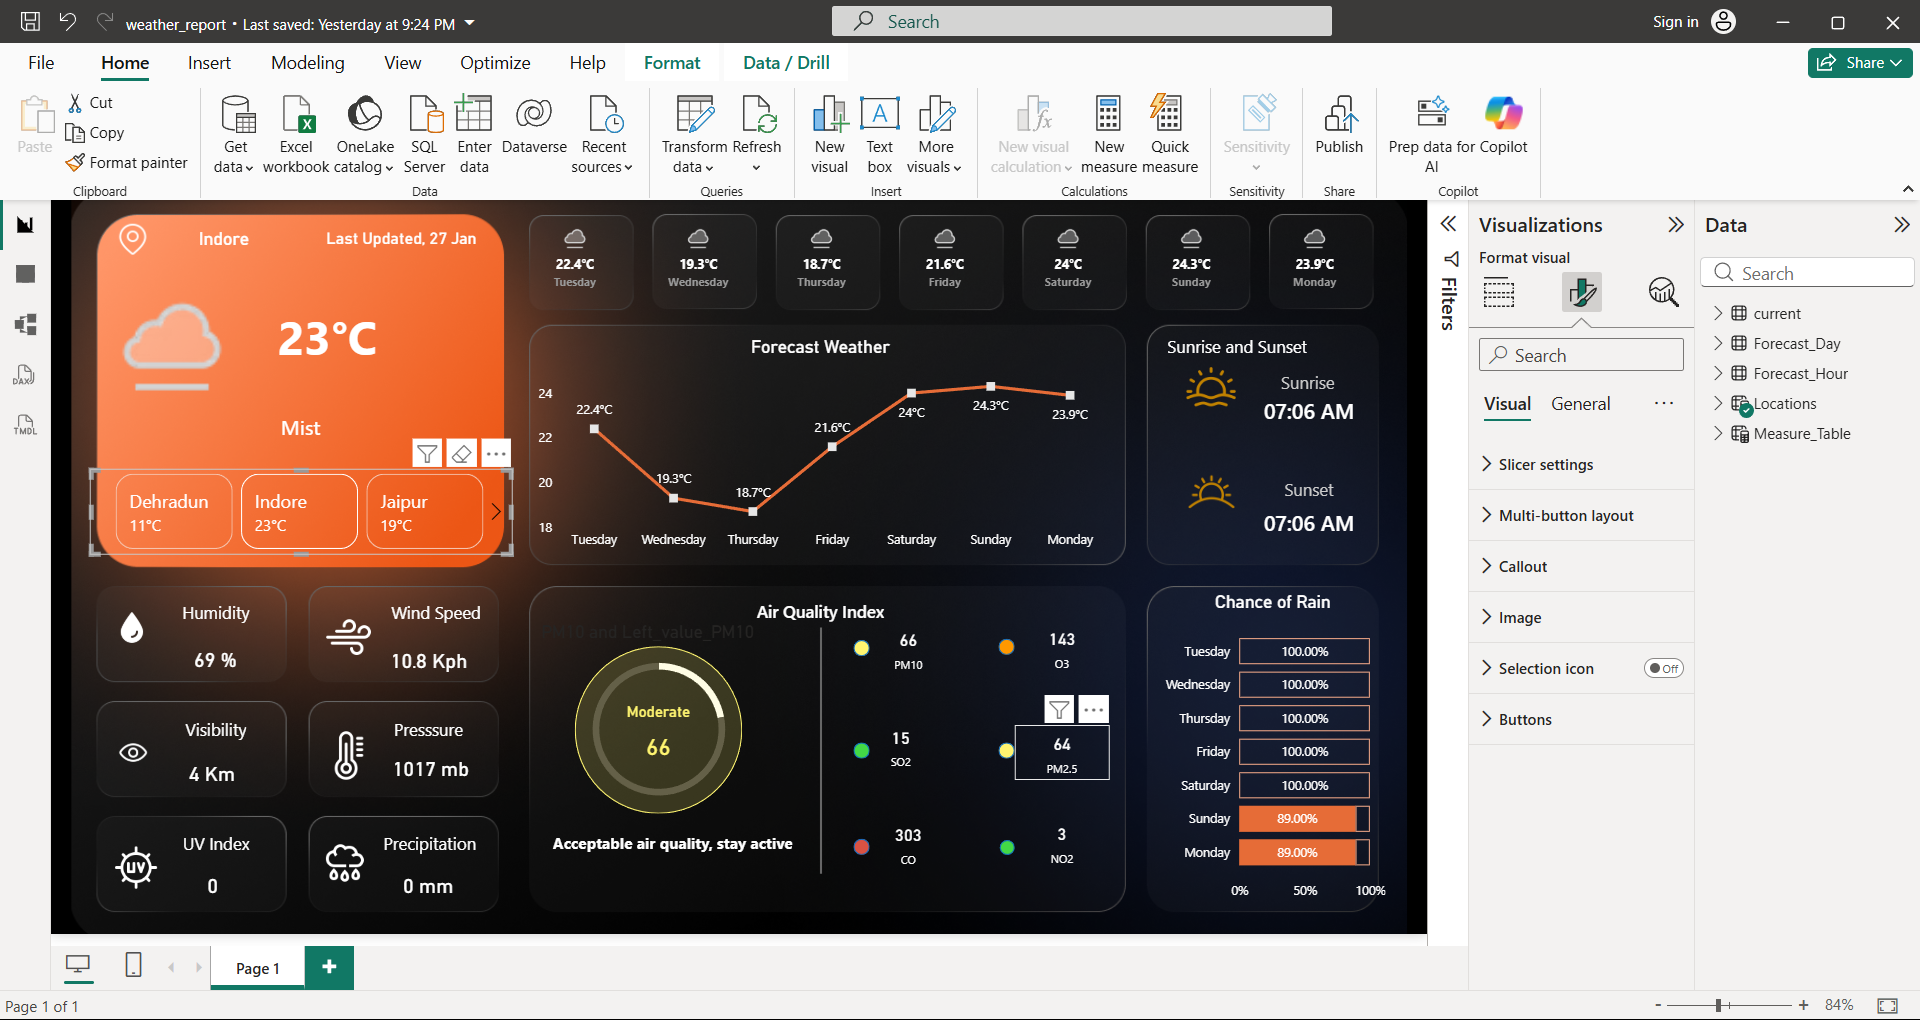

Layout of this report page (visuals, bound fields, positions):
{"tool":"powerbi","page":{"name":"Page 1","canvas":[1317,703],"ordinal":0},"visuals":[{"type":"donutChart","fields":{"Y":["Sum(current.current.air_quality.pm10)","Measure_Table.Left_value_PM10"]},"box":[464.2,403.2,235.7,187.8],"z":0},{"type":"shape","box":[501.3,427.1,160.3,160.3],"z":1000},{"type":"advancedSlicerVisual","fields":{"Values":["Locations.location.name"]},"box":[37.1,257.2,404.4,82.6],"z":2000},{"type":"shape","box":[210.6,86.1,122,88.5],"z":3000},{"type":"card","fields":{"Values":["Min(Locations.location.name)"]},"box":[84,16.7,163.9,41.9],"z":4000},{"type":"card","fields":{"Values":["Min(current.current.condition.text)"]},"box":[59.8,193.8,358.9,49.1],"z":5000},{"type":"image","box":[59.8,22.7,37.1,29.9],"z":6000},{"type":"card","fields":{"Values":["Measure_Table.last_updated_date_curr"]},"box":[252.4,16.7,166.3,41.9],"z":7000},{"type":"image","box":[46.7,64.6,138.8,131.6],"z":8000},{"type":"image","box":[45.5,513.3,65.8,31.1],"z":9000},{"type":"actionButton","box":[107.7,486.9,100.5,39.5],"z":10000},{"type":"image","box":[56.2,393.6,43.1,31.1],"z":11000},{"type":"actionButton","box":[107.7,374.5,100.5,39.5],"z":12000},{"type":"actionButton","box":[107.7,595.8,100.5,39.5],"z":13000},{"type":"image","box":[59.8,617.3,43.1,43.1],"z":14000},{"type":"actionButton","box":[311.1,486.9,100.5,39.5],"z":15000},{"type":"actionButton","box":[318.2,374.5,100.5,39.5],"z":16000},{"type":"actionButton","box":[312.3,595.8,100.5,39.5],"z":17000},{"type":"image","box":[262,394.8,45.5,46.7],"z":18000},{"type":"image","box":[259.6,508.5,51.4,46.7],"z":19000},{"type":"image","box":[254.8,612.6,52.6,44.3],"z":20000},{"type":"card","fields":{"Values":["Measure_Table.Humidity"]},"box":[129.2,425.9,56.2,28.7],"z":21000},{"type":"card","fields":{"Values":["Measure_Table.Pressure"]},"box":[314.7,519.2,98.1,51.4],"z":22000},{"type":"card","fields":{"Values":["Measure_Table.Wind_Speed"]},"box":[318.2,424.7,87.3,33.5],"z":23000},{"type":"card","fields":{"Values":["Measure_Table.precipitation"]},"box":[317,634.1,88.5,45.5],"z":24000},{"type":"card","fields":{"Values":["Measure_Table.Visibility_in_Km"]},"box":[107.7,534.8,93.3,29.9],"z":25000},{"type":"card","fields":{"Values":["Sum(current.current.uv)"]},"box":[124.4,638.9,61,35.9],"z":26000},{"type":"advancedSlicerVisual","fields":{"Values":["Forecast_Day.Day_Name"]},"box":[441.5,3.6,832.7,110.1],"z":27000},{"type":"lineChart","title":"Forecast Weather","fields":{"Y":["Sum(Forecast_Day.forecast.forecastday.day.avgtemp_c)"],"Category":["Forecast_Day.Day_Name"]},"box":[461.8,130.4,549.2,213],"z":28000},{"type":"actionButton","box":[1056.4,119.6,157.9,39.5],"z":29000},{"type":"shape","box":[1135.4,181.9,137.6,39.5],"z":30000},{"type":"shape","box":[1164.1,257.2,80.2,39.5],"z":31000},{"type":"shape","box":[1162.9,155.5,80.2,38.3],"z":32000},{"type":"shape","box":[1135.4,288.3,137.6,39.5],"z":33000},{"type":"image","box":[1085.1,155.5,50.2,46.7],"z":34000},{"type":"image","box":[1074.4,250,73,58.6],"z":35000},{"type":"hundredPercentStackedBarChart","title":"Chance of Rain","fields":{"Y":["Sum(Forecast_Day.forecast.forecastday.day.daily_chance_of_rain)","Measure_Table.Left_value_rain"],"Category":["Forecast_Day.Day_Name"]},"box":[1056.4,374.5,226.1,305.1],"z":36000},{"type":"actionButton","box":[668.8,373.3,135.2,39.5],"z":37000},{"type":"card","fields":{"Values":["Sum(current.current.air_quality.co)"]},"box":[775.3,589.8,90.9,52.6],"z":38000},{"type":"card","fields":{"Values":["Sum(current.current.air_quality.o3)"]},"box":[922.4,402,90.9,52.6],"z":39000},{"type":"card","fields":{"Values":["Sum(current.current.air_quality.pm2_5)"]},"box":[922.4,502.5,90.9,52.6],"z":40000},{"type":"card","fields":{"Values":["Sum(current.current.air_quality.no2)"]},"box":[922.4,588.6,90.9,52.6],"z":41000},{"type":"card","fields":{"Values":["Sum(current.current.air_quality.pm10)"]},"box":[775.3,403.2,90.9,52.6],"z":42000},{"type":"card","fields":{"Values":["Sum(current.current.air_quality.so2)"]},"box":[768.1,496.5,90.9,52.6],"z":43000},{"type":"shape","box":[768.1,421.1,15.6,15.6],"z":44000},{"type":"shape","box":[768.1,611.4,15.6,15.6],"z":45000},{"type":"shape","box":[906.9,419.9,15.6,15.6],"z":46000},{"type":"shape","box":[906.9,519.2,15.6,15.6],"z":47000},{"type":"shape","box":[908.1,612.6,14.4,14.4],"z":48000},{"type":"shape","box":[768.1,519.2,15.6,15.6],"z":49000},{"type":"shape","box":[696.3,409.2,81.4,235.7],"z":50000},{"type":"card","fields":{"Values":["Sum(current.current.air_quality.pm10)"]},"box":[543.2,481,76.6,68.2],"z":51000},{"type":"actionButton","box":[464.2,600.6,262,29.9],"z":52000}]}

Visuals, with their boxes on the page's 1317x703 design canvas (x1, y1, x2, y2). These are canvas units, not pixel positions in the 1920x1020 screenshot, which may show the page scaled, cropped or inside an application window:
donutChart - Sum(current.current.air_quality.pm10) x Measure_Table.Left_value_PM10: detection(464, 403, 700, 591)
shape: detection(501, 427, 662, 587)
advancedSlicerVisual - Locations.location.name: detection(37, 257, 442, 340)
shape: detection(211, 86, 333, 175)
card - Min(Locations.location.name): detection(84, 17, 248, 59)
card - Min(current.current.condition.text): detection(60, 194, 419, 243)
image: detection(60, 23, 97, 53)
card - Measure_Table.last_updated_date_curr: detection(252, 17, 419, 59)
image: detection(47, 65, 186, 196)
image: detection(46, 513, 111, 544)
actionButton: detection(108, 487, 208, 526)
image: detection(56, 394, 99, 425)
actionButton: detection(108, 374, 208, 414)
actionButton: detection(108, 596, 208, 635)
image: detection(60, 617, 103, 660)
actionButton: detection(311, 487, 412, 526)
actionButton: detection(318, 374, 419, 414)
actionButton: detection(312, 596, 413, 635)
image: detection(262, 395, 308, 442)
image: detection(260, 508, 311, 555)
image: detection(255, 613, 307, 657)
card - Measure_Table.Humidity: detection(129, 426, 185, 455)
card - Measure_Table.Pressure: detection(315, 519, 413, 571)
card - Measure_Table.Wind_Speed: detection(318, 425, 406, 458)
card - Measure_Table.precipitation: detection(317, 634, 406, 680)
card - Measure_Table.Visibility_in_Km: detection(108, 535, 201, 565)
card - Sum(current.current.uv): detection(124, 639, 185, 675)
advancedSlicerVisual - Forecast_Day.Day_Name: detection(442, 4, 1274, 114)
"Forecast Weather" lineChart: detection(462, 130, 1011, 343)
actionButton: detection(1056, 120, 1214, 159)
shape: detection(1135, 182, 1273, 221)
shape: detection(1164, 257, 1244, 297)
shape: detection(1163, 156, 1243, 194)
shape: detection(1135, 288, 1273, 328)
image: detection(1085, 156, 1135, 202)
image: detection(1074, 250, 1147, 309)
"Chance of Rain" hundredPercentStackedBarChart: detection(1056, 374, 1282, 680)
actionButton: detection(669, 373, 804, 413)
card - Sum(current.current.air_quality.co): detection(775, 590, 866, 642)
card - Sum(current.current.air_quality.o3): detection(922, 402, 1013, 455)
card - Sum(current.current.air_quality.pm2_5): detection(922, 502, 1013, 555)
card - Sum(current.current.air_quality.no2): detection(922, 589, 1013, 641)
card - Sum(current.current.air_quality.pm10): detection(775, 403, 866, 456)
card - Sum(current.current.air_quality.so2): detection(768, 496, 859, 549)
shape: detection(768, 421, 784, 437)
shape: detection(768, 611, 784, 627)
shape: detection(907, 420, 922, 436)
shape: detection(907, 519, 922, 535)
shape: detection(908, 613, 922, 627)
shape: detection(768, 519, 784, 535)
shape: detection(696, 409, 778, 645)
card - Sum(current.current.air_quality.pm10): detection(543, 481, 620, 549)
actionButton: detection(464, 601, 726, 630)
